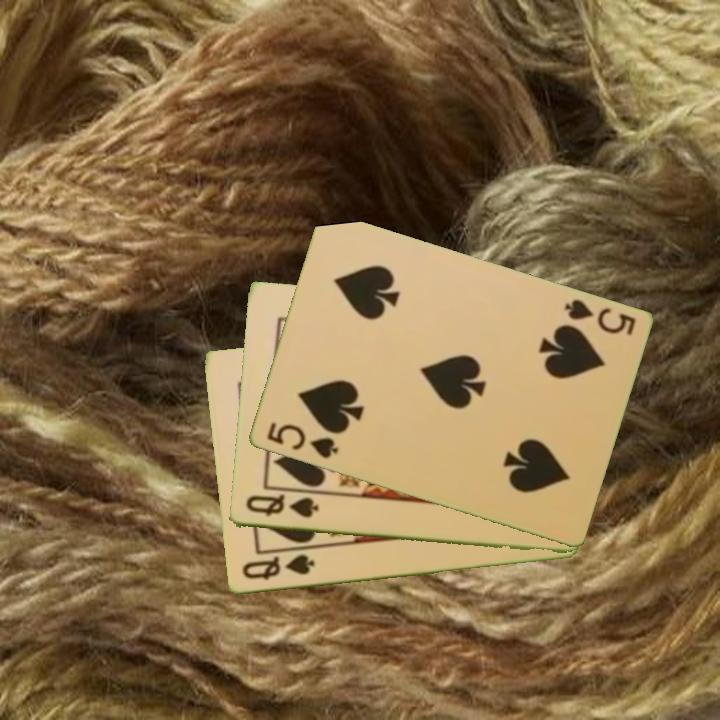5s: (262, 418, 341, 462), (560, 296, 638, 339)
Qs: (238, 551, 317, 584), (242, 492, 321, 521)
